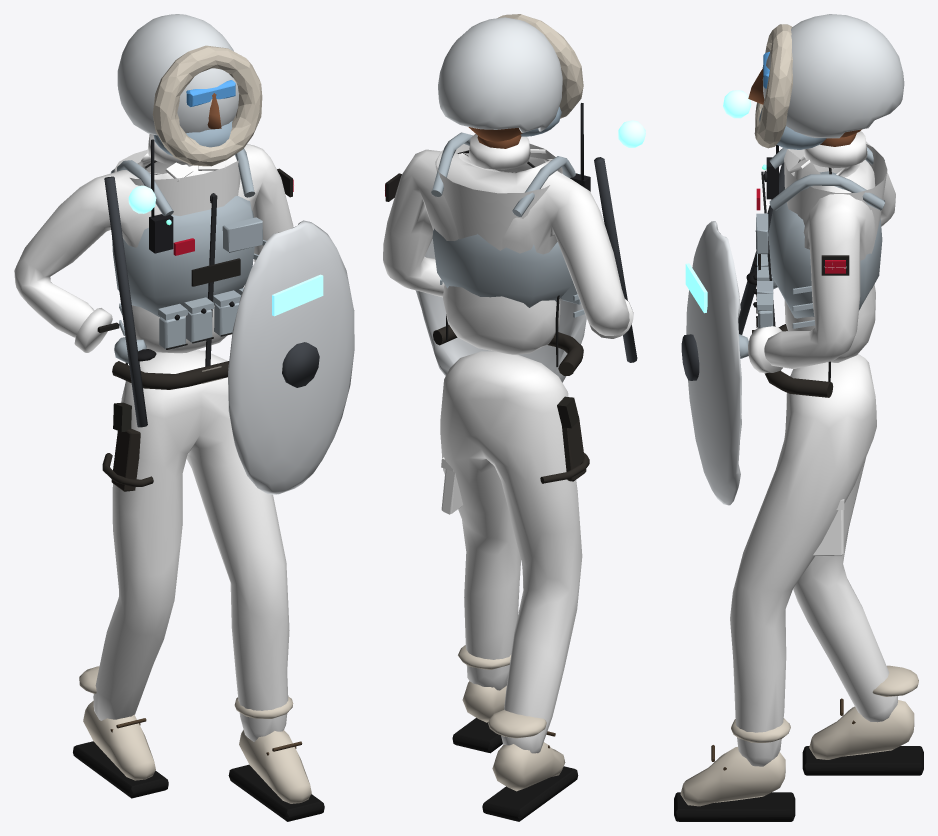
The model's file is enhed_arktis.glb.
3 views of the same model, side by side, from view 1: azimuth 30°, elevation 25°; view 2: azimuth 150°, elevation 25°; view 3: azimuth 270°, elevation 25° (orthographic). The views are drawn at different scales.
Parts seen in each view (by area): view 1: krop_net; view 2: krop_net; view 3: krop_net.
Part boxes in pixels (x1=…): krop_net: x1=14, y1=14, x2=354, y2=821; krop_net: x1=383, y1=14, x2=645, y2=821; krop_net: x1=674, y1=14, x2=923, y2=821.
Size of the model in its own units: 0.8143 by 2.15 by 0.6308.
